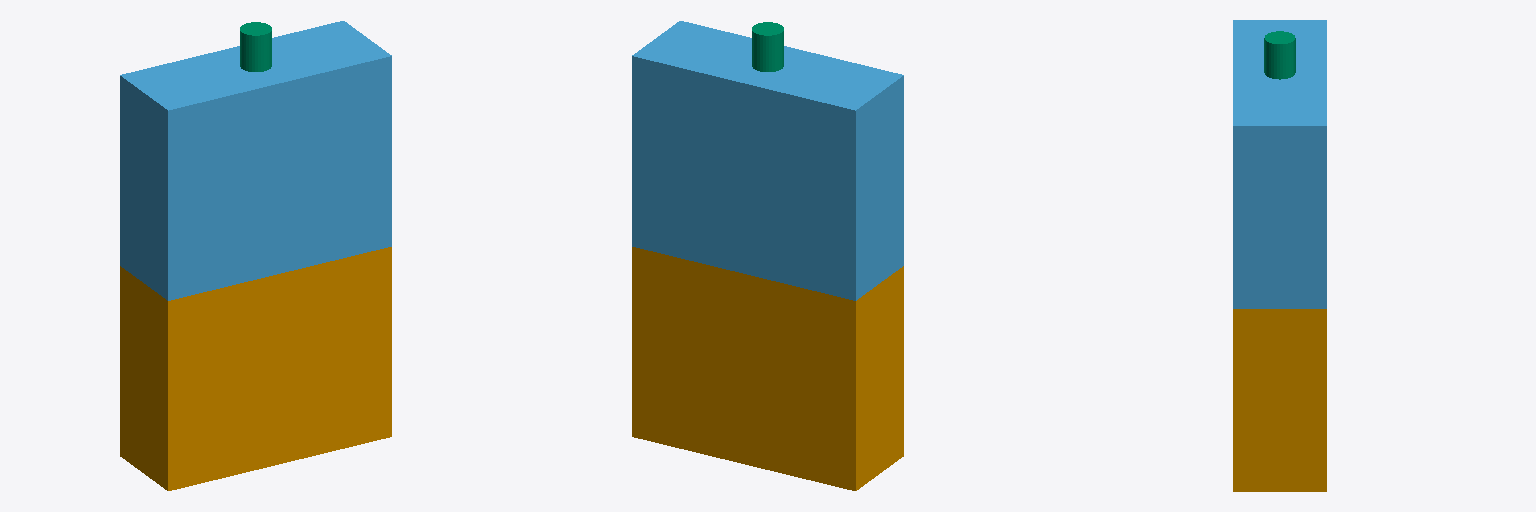
The robot description file, URDF, robot "dois_servos":
<?xml version="1.0"?>
<robot name="dois_servos">

  <!-- Servo Motor 1 (fixado na mesa) -->
  <link name="base_servo1">
    <visual>
      <geometry>
        <box size="0.032 0.012 0.026"/> <!-- Tamanho do servo motor 1 -->
      </geometry>
      <material name="gray"/>
    </visual>
    <collision>
      <geometry>
        <box size="0.032 0.012 0.026"/> <!-- Colisão do servo motor 1 -->
      </geometry>
    </collision>
    <inertial>
      <mass value="0.1"/> <!-- Massa padrão do servo motor 1 -->
      <inertia ix="0.0001" iy="0.0001" iz="0.0001"/> <!-- Inércia padrão -->
    </inertial>
  </link>

  <!-- Servo Motor 2 (girando com o primeiro) -->
  <link name="base_servo2">
    <visual>
      <geometry>
        <box size="0.032 0.012 0.026"/> <!-- Tamanho do servo motor 2 -->
      </geometry>
      <material name="blue"/>
    </visual>
    <collision>
      <geometry>
        <box size="0.032 0.012 0.026"/> <!-- Colisão do servo motor 2 -->
      </geometry>
    </collision>
    <inertial>
      <mass value="0.1"/> <!-- Massa padrão do servo motor 2 -->
      <inertia ix="0.0001" iy="0.0001" iz="0.0001"/> <!-- Inércia padrão -->
    </inertial>
  </link>

  <!-- Junta entre os dois servos (revoluta) -->
  <joint name="servo_joint" type="revolute">
    <parent link="base_servo1"/>
    <child link="base_servo2"/>
    <origin xyz="0 0 0.026"/> <!-- Posição do eixo de rotação -->
    <axis xyz="0 1 0"/> <!-- Eixo de rotação no eixo Y -->
    <limit lower="0" upper="3.14" effort="1" velocity="1"/> <!-- Limites da junta -->
  </joint>

  <!-- Chave Allen (visual, cilindro) -->
  <link name="chave_allen">
    <visual>
      <geometry>
        <cylinder radius="0.002" length="0.01"/> <!-- Representação visual da chave Allen -->
      </geometry>
      <material name="black"/>
    </visual>
    <collision>
      <geometry>
        <cylinder radius="0.002" length="0.01"/> <!-- Colisão da chave Allen -->
      </geometry>
    </collision>
    <inertial>
      <mass value="0.01"/> <!-- Massa pequena da chave Allen -->
      <inertia ix="0.00001" iy="0.00001" iz="0.00001"/> <!-- Inércia da chave Allen -->
    </inertial>
  </link>

  <!-- Junta entre o servo motor 2 e a chave Allen -->
  <joint name="chave_joint" type="revolute">
    <parent link="base_servo2"/>
    <child link="chave_allen"/>
    <origin xyz="0 0 0.013"/> <!-- Posição da chave Allen no eixo do servo motor 2 -->
    <axis xyz="0 1 0"/> <!-- Eixo de rotação da chave Allen -->
    <limit lower="0" upper="3.14" effort="1" velocity="1"/> <!-- Limites da junta -->
  </joint>

</robot>

--- Facts derived from the render (not from the file) ---
3 views of the same robot in one strip: view 1: azimuth 30°, elevation 25°; view 2: azimuth 150°, elevation 25°; view 3: azimuth 270°, elevation 25° (orthographic).
Model dois_servos with 3 links and 2 joints (2 revolute), rooted at base_servo1, posed all joints at 0.
Visible links, largest first — view 1: base_servo2, base_servo1, chave_allen; view 2: base_servo2, base_servo1, chave_allen; view 3: base_servo2, base_servo1, chave_allen.
Link boxes in pixels (x1=…): base_servo2: x1=120, y1=21, x2=391, y2=300; base_servo1: x1=120, y1=247, x2=391, y2=490; chave_allen: x1=240, y1=22, x2=271, y2=71; base_servo2: x1=632, y1=21, x2=903, y2=300; base_servo1: x1=632, y1=247, x2=903, y2=490; chave_allen: x1=752, y1=22, x2=783, y2=71; base_servo2: x1=1233, y1=20, x2=1326, y2=308; base_servo1: x1=1233, y1=309, x2=1326, y2=491; chave_allen: x1=1264, y1=31, x2=1295, y2=79.
Bounding box of the posed robot: 0.032 × 0.012 × 0.057 m (x, y, z).
Geometry: primitives only (box / cylinder / sphere), no mesh files.
